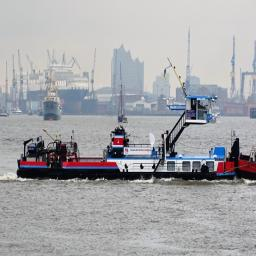tugboat: (17, 58, 242, 188)
